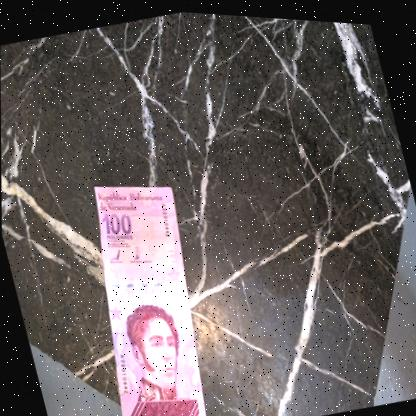one_hundred-front-vef: (60, 164, 232, 416)
